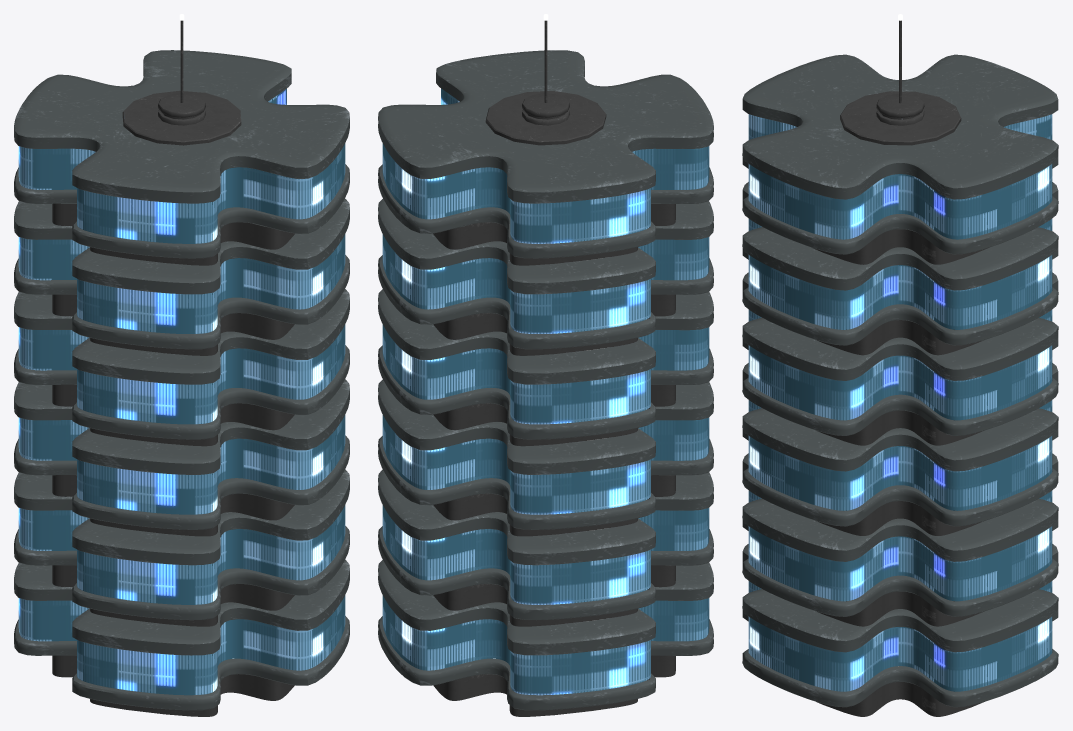
The model's file is sci-fi_building_4.glb.
The picture shows the model from 3 angles, left to right: view 1: azimuth 30°, elevation 25°; view 2: azimuth 150°, elevation 25°; view 3: azimuth 270°, elevation 25°; orthographic projection.
Parts seen in each view (by area): view 1: Sci_fi_building; view 2: Sci_fi_building; view 3: Sci_fi_building.
Part boxes in pixels (x1,y1,x2,y2): Sci_fi_building: (14, 14, 349, 716); Sci_fi_building: (378, 14, 713, 716); Sci_fi_building: (742, 14, 1058, 716).
Size of the model in its own units: 104 by 235 by 104.
1 material, 1 textured.
